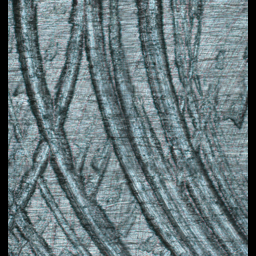d: (9, 0, 247, 254)
